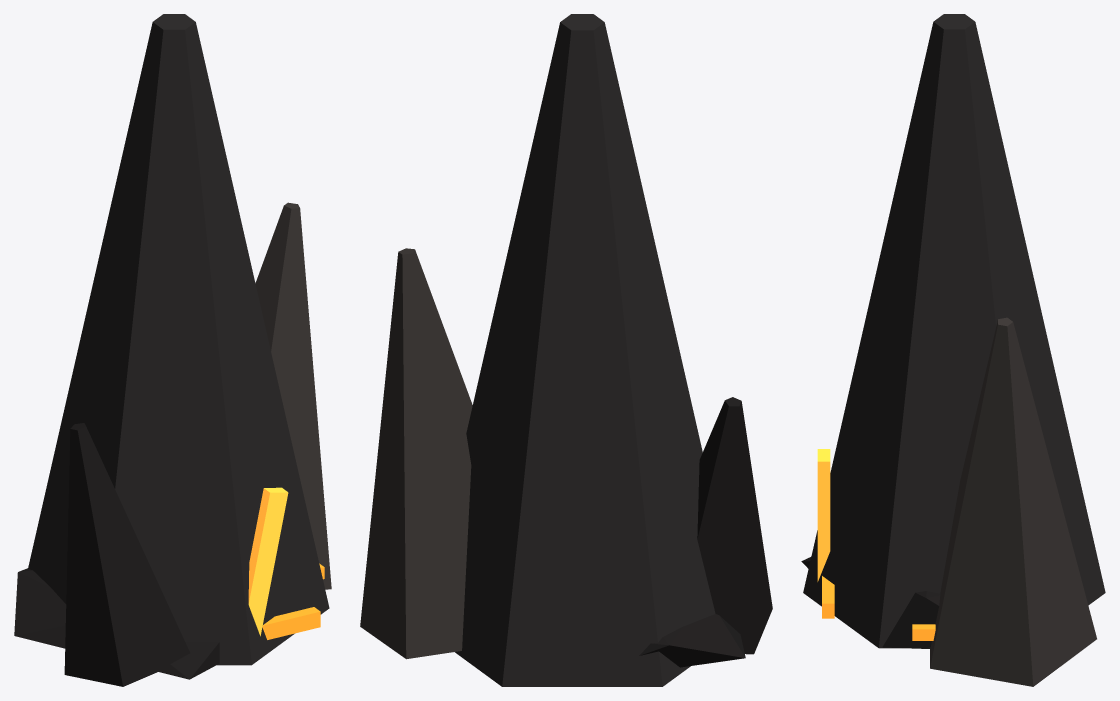
Rendered from rock_stalagmite.glb.
3 renders of one model, left to right at view 1: azimuth 30°, elevation 25°; view 2: azimuth 150°, elevation 25°; view 3: azimuth 270°, elevation 25°, orthographic. The views are drawn at different scales.
Visible parts, largest first — view 1: rock_stalagmite; view 2: rock_stalagmite; view 3: rock_stalagmite.
Boxes of the visible parts, x1=… form: rock_stalagmite: x1=14, y1=14, x2=331, y2=686; rock_stalagmite: x1=360, y1=14, x2=772, y2=686; rock_stalagmite: x1=801, y1=14, x2=1105, y2=686.
Bounding box in the file's own units: 0.8929 × 1.58 × 0.7242.
